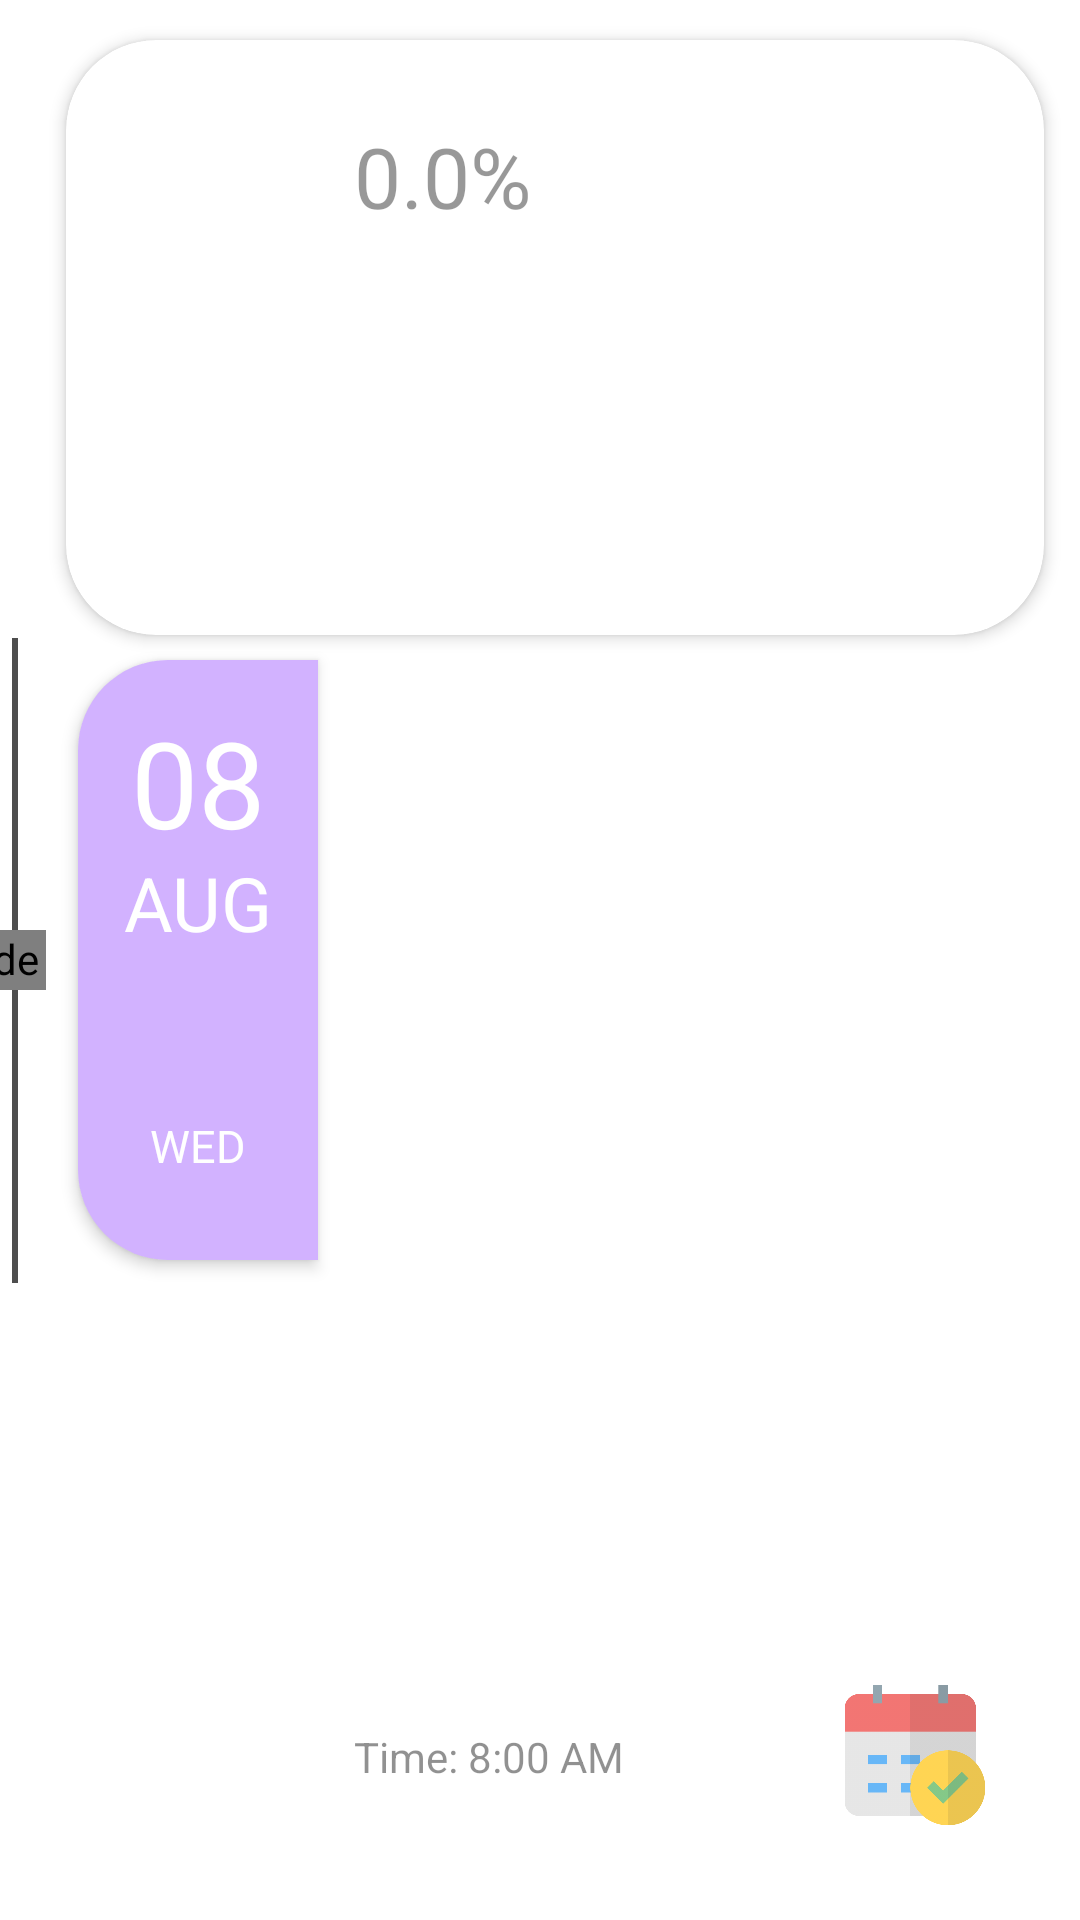

Point at icon controls on the screen. Image size 1080 x 1920, points as [x,y].
today: [915,1755]
